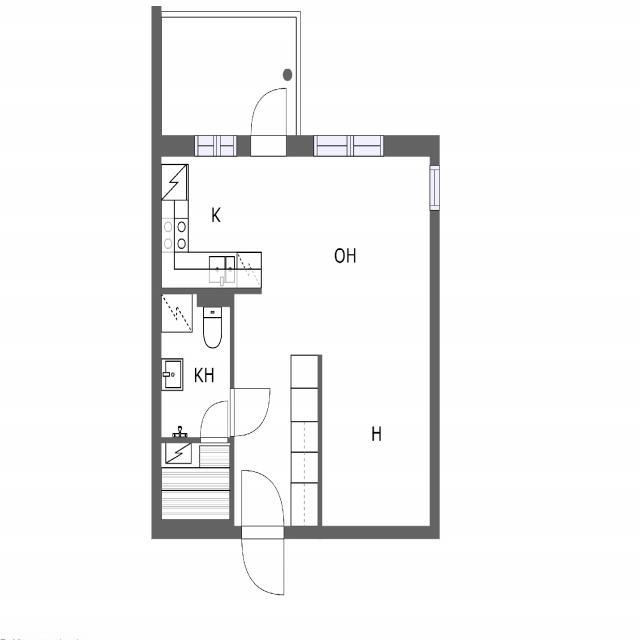door: (243, 470, 284, 539), (243, 526, 284, 594), (252, 88, 286, 156), (230, 388, 270, 436), (201, 402, 228, 444)
